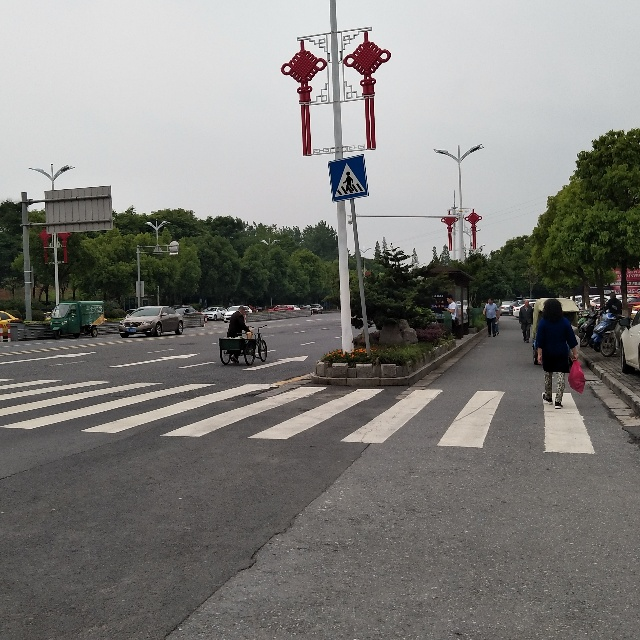crosswalk: (329, 158, 364, 199)
